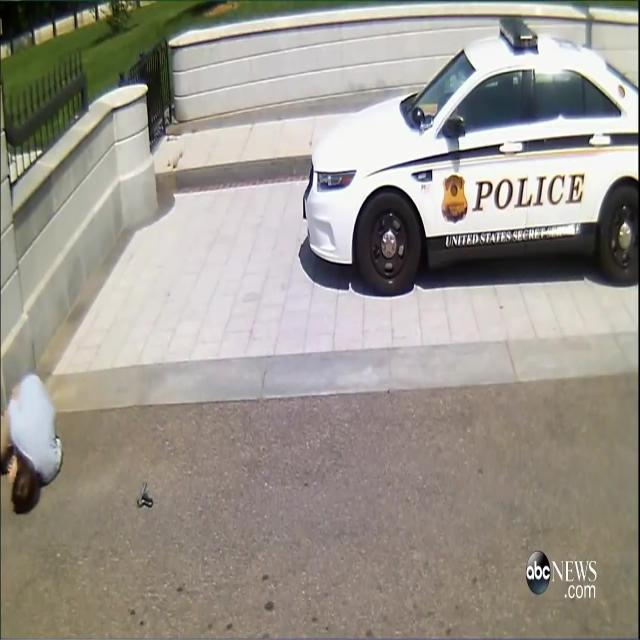Weapon: (124, 463, 171, 538)
